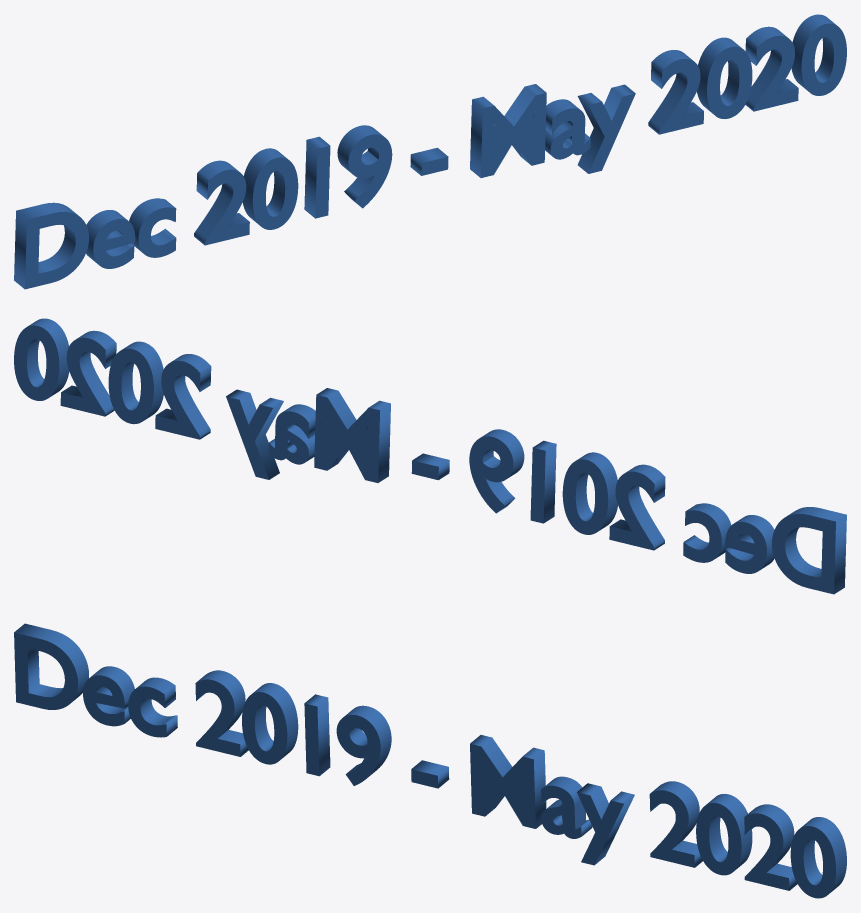
Rendered from jan19.glb.
3 views of the same model, one above another, from view 1: azimuth 30°, elevation 25°; view 2: azimuth 150°, elevation 25°; view 3: azimuth 330°, elevation 25° (orthographic).
Visible parts, largest first — view 1: Text; view 2: Text; view 3: Text.
Boxes of the visible parts, <box> form: Text: <box>14,14,846,289</box>; Text: <box>14,318,846,594</box>; Text: <box>14,623,846,898</box>.
Size of the model in its own units: 8.68 by 0.9703 by 0.2505.
